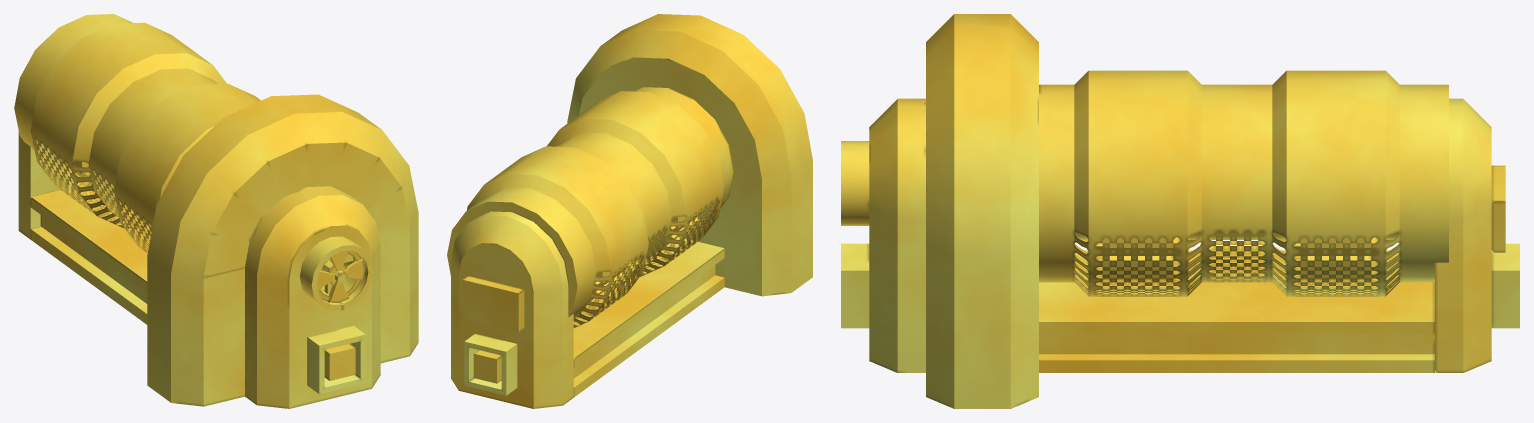
The model's file is igen.obj.
3 renders of one model, left to right at view 1: azimuth 30°, elevation 25°; view 2: azimuth 150°, elevation 25°; view 3: azimuth 270°, elevation 25°, orthographic. The views are drawn at different scales.
Parts seen in each view (by area): view 1: Body, Rotor; view 2: Body, Rotor; view 3: Body, Rotor.
Boxes of the visible parts, <box> form: Body: <box>14,14,418,408</box>; Rotor: <box>53,152,353,293</box>; Body: <box>447,14,812,408</box>; Rotor: <box>590,208,704,300</box>; Body: <box>841,14,1519,408</box>; Rotor: <box>1096,237,1378,279</box>.
Size of the model in its own units: 3 by 3 by 6.
